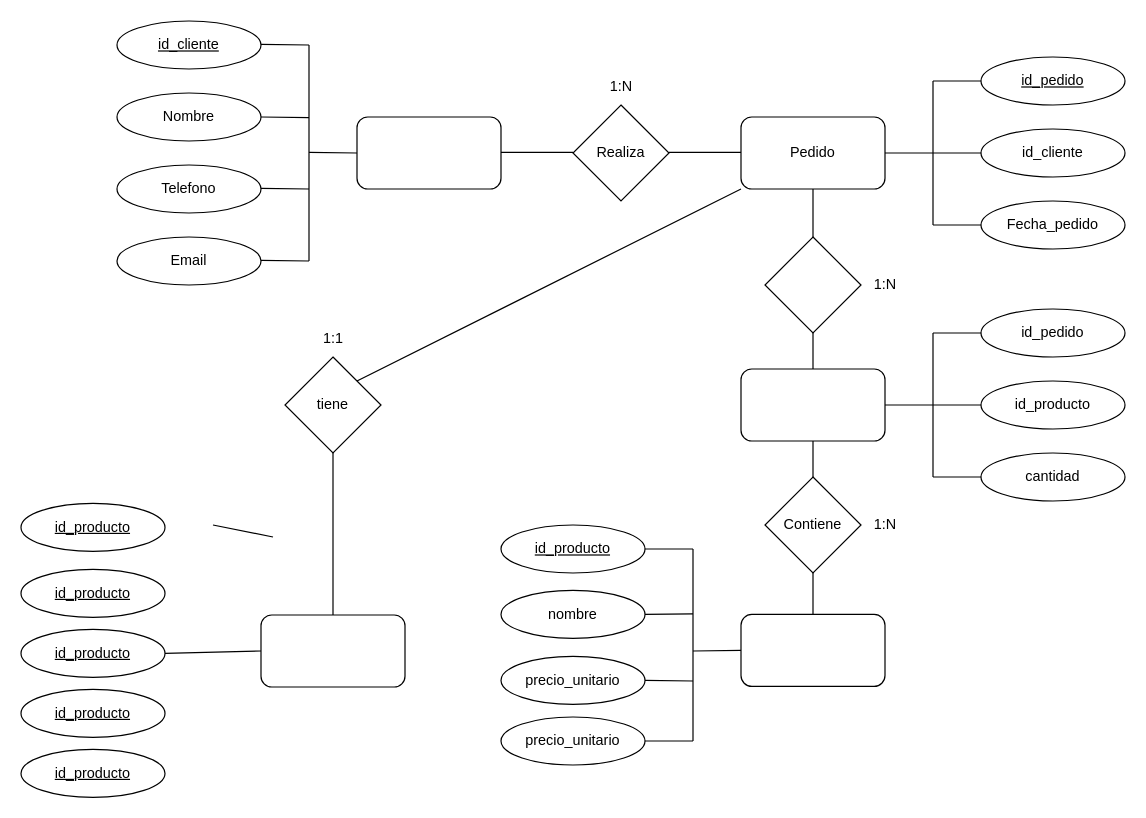
Some shapes in this 1146 by 818 pixel diagram are drawn without their labels. Each missing label, with the centre of its shape:
Cliente: [428,152]
Detalle_pedido: [812,404]
Entrega: [332,650]
Producto: [812,649]
Se compone: [812,284]
